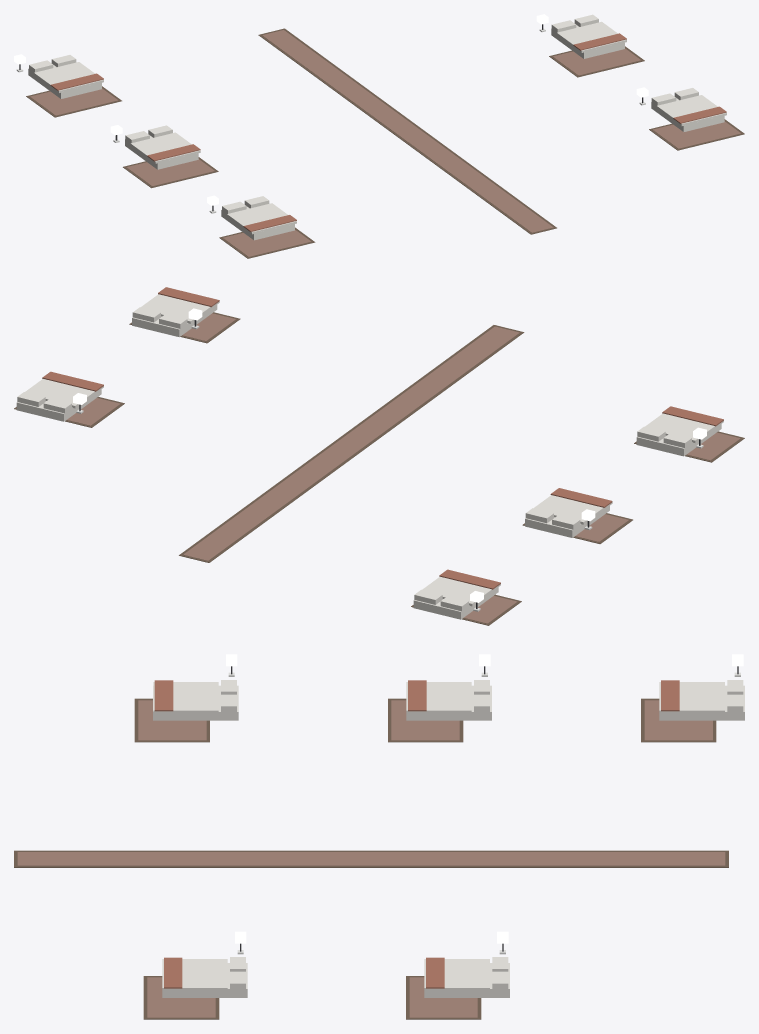
Rendered from fine-s1.glb.
3 renders of one model, top to bottom at view 1: azimuth 30°, elevation 25°; view 2: azimuth 150°, elevation 25°; view 3: azimuth 270°, elevation 25°, orthographic. The views are drawn at different scales.
Parts seen in each view (by area): view 1: soft-s1; view 2: soft-s1; view 3: soft-s1.
Part boxes in pixels (x1,y1,x2,y2): soft-s1: (14,14,744,258); soft-s1: (14,287,744,625); soft-s1: (14,654,744,1019).
Bounding box in the file's own units: 17.15 × 1.09 × 16.48.
